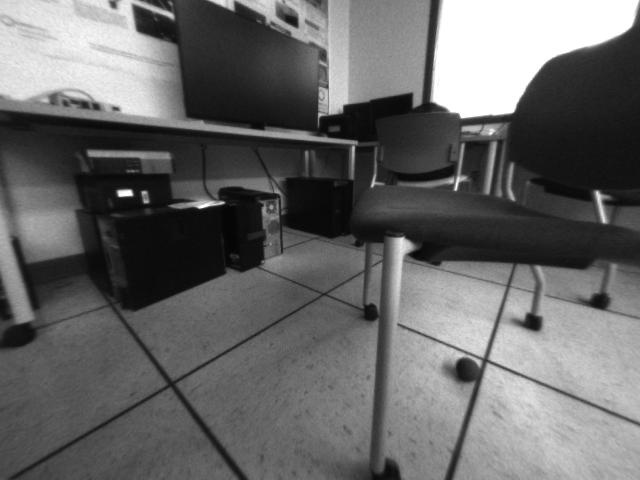dogtoy: (450, 351, 485, 385)
